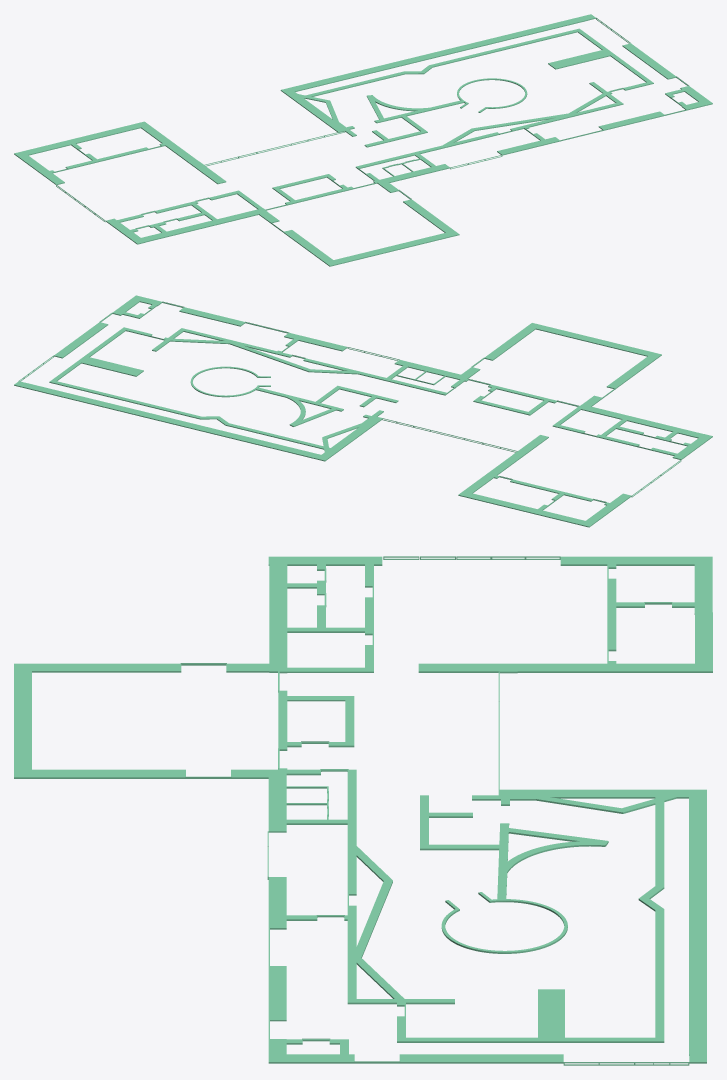
File: VDNH_verh_G_GLB.glb
3 renders of one model, top to bottom at view 1: azimuth 30°, elevation 25°; view 2: azimuth 150°, elevation 25°; view 3: azimuth 270°, elevation 25°, orthographic. The views are drawn at different scales.
Bounding box in the file's own units: 0.0665 × 0.000234 × 0.0388.
